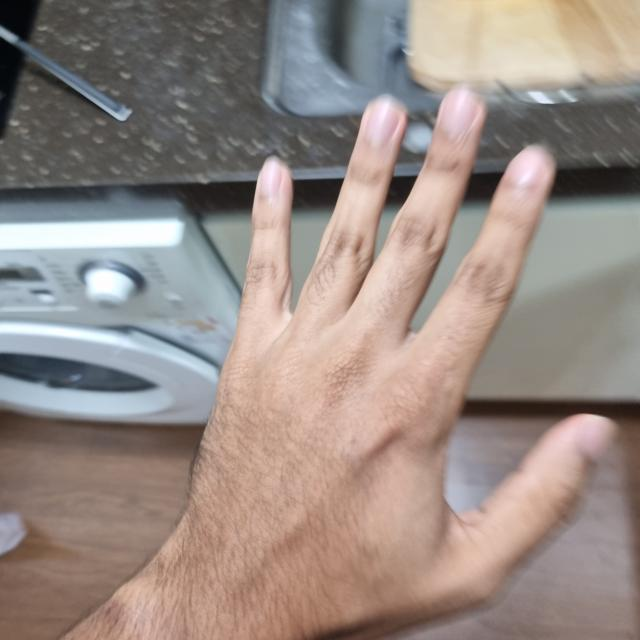Paper: (177, 95, 602, 640)
